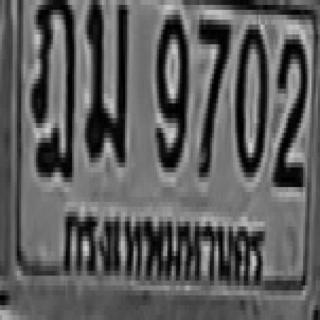A14: (29, 0, 74, 177)
A33: (82, 0, 125, 158)
N00: (233, 20, 265, 172)
N02: (271, 29, 305, 182)
N07: (197, 15, 229, 172)
N09: (155, 10, 186, 167)
P04: (55, 201, 266, 296)
